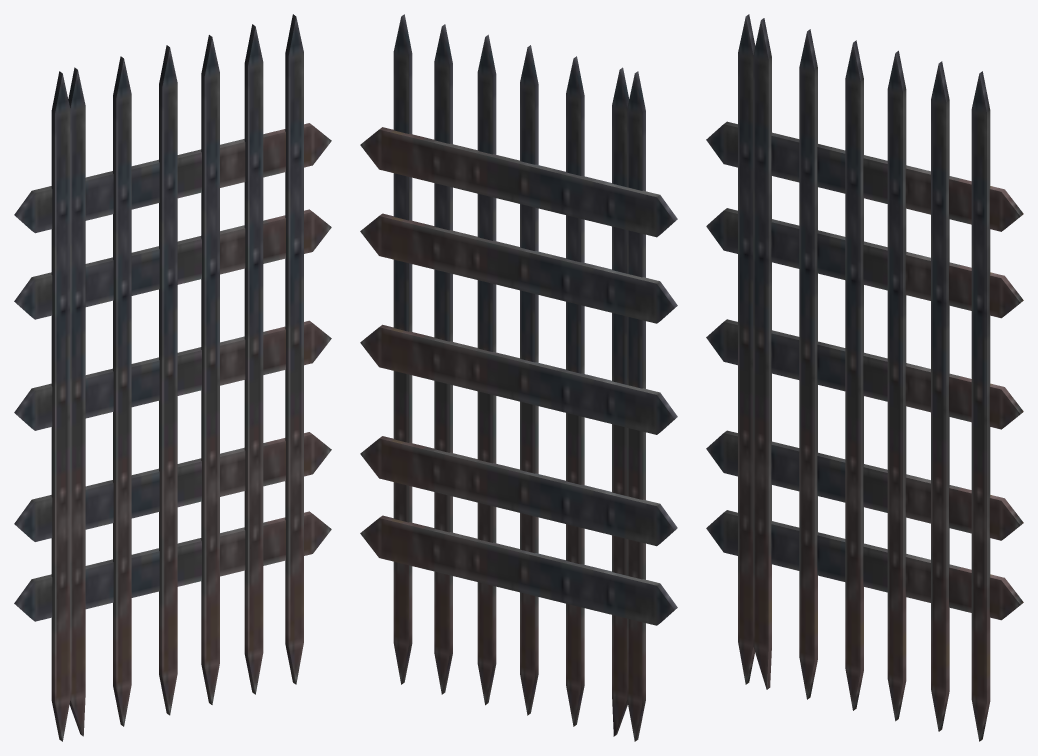
The model's file is castleGate (3).fbx.
3 views of the same model, side by side, from view 1: azimuth 30°, elevation 25°; view 2: azimuth 150°, elevation 25°; view 3: azimuth 330°, elevation 25° (orthographic).
Visible parts, largest first — view 1: castleGate (3); view 2: castleGate (3); view 3: castleGate (3).
Boxes of the visible parts, x1,y1,x2,y2 form: castleGate (3): (14,14,331,741); castleGate (3): (360,14,677,741); castleGate (3): (706,14,1023,741).
Bounding box in the file's own units: 4.74 × 9.64 × 0.162.
Materials: 1 (1 with a texture image).
